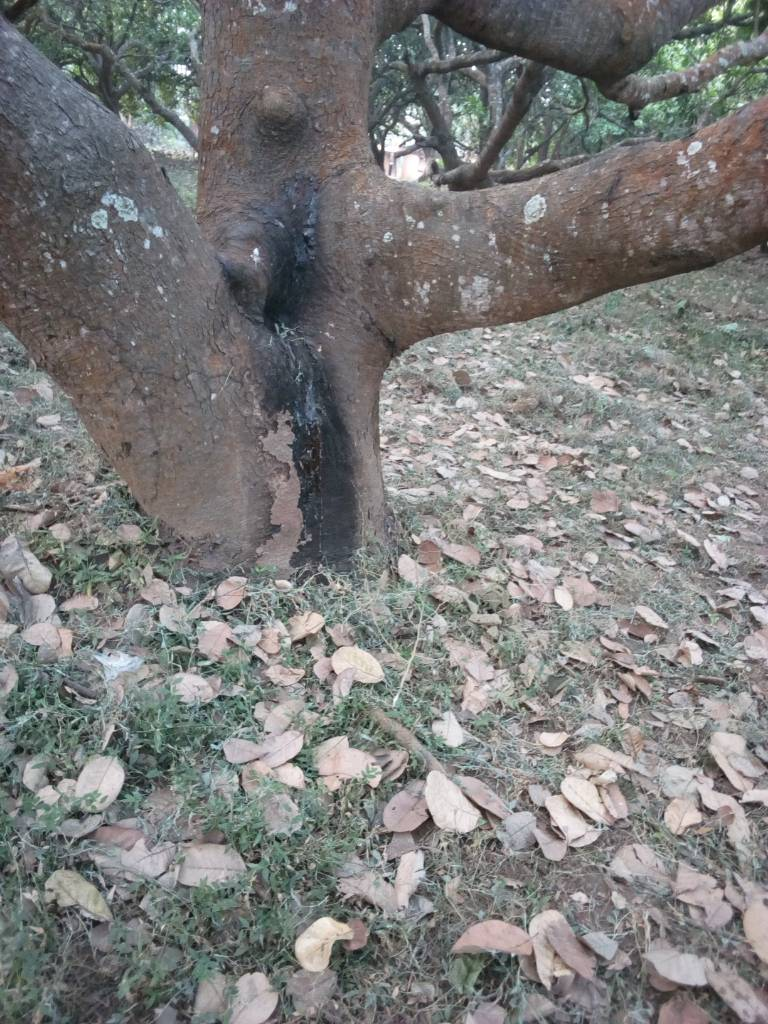Gommose: (274, 232, 365, 560)
